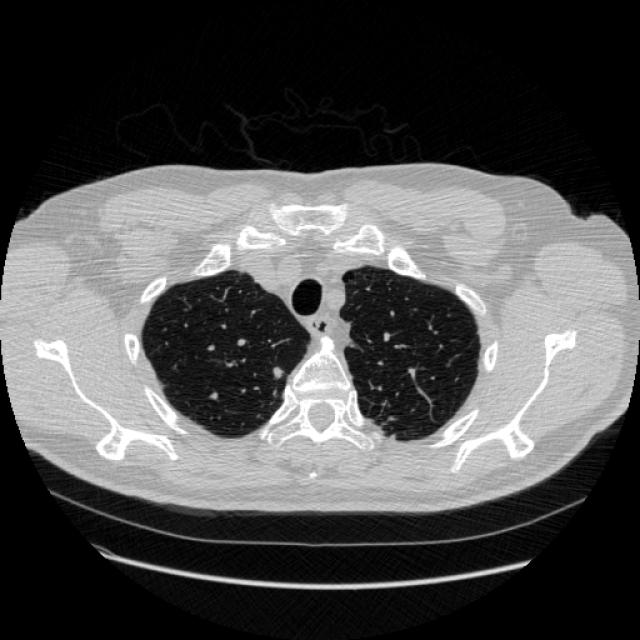nodule: (265, 360, 287, 382)
